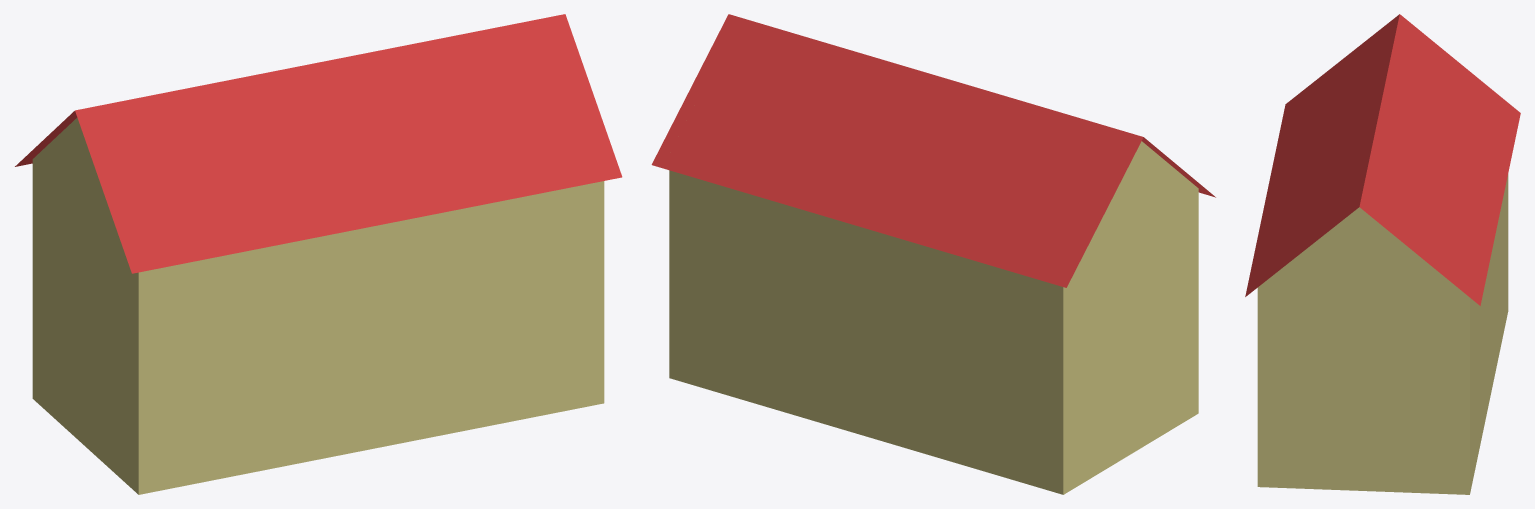
3 renders of one model, left to right at view 1: azimuth 30°, elevation 25°; view 2: azimuth 150°, elevation 25°; view 3: azimuth 270°, elevation 25°, orthographic. The views are drawn at different scales.
Bounding box in the file's own units: 20.51 × 11.83 × 13.67.
